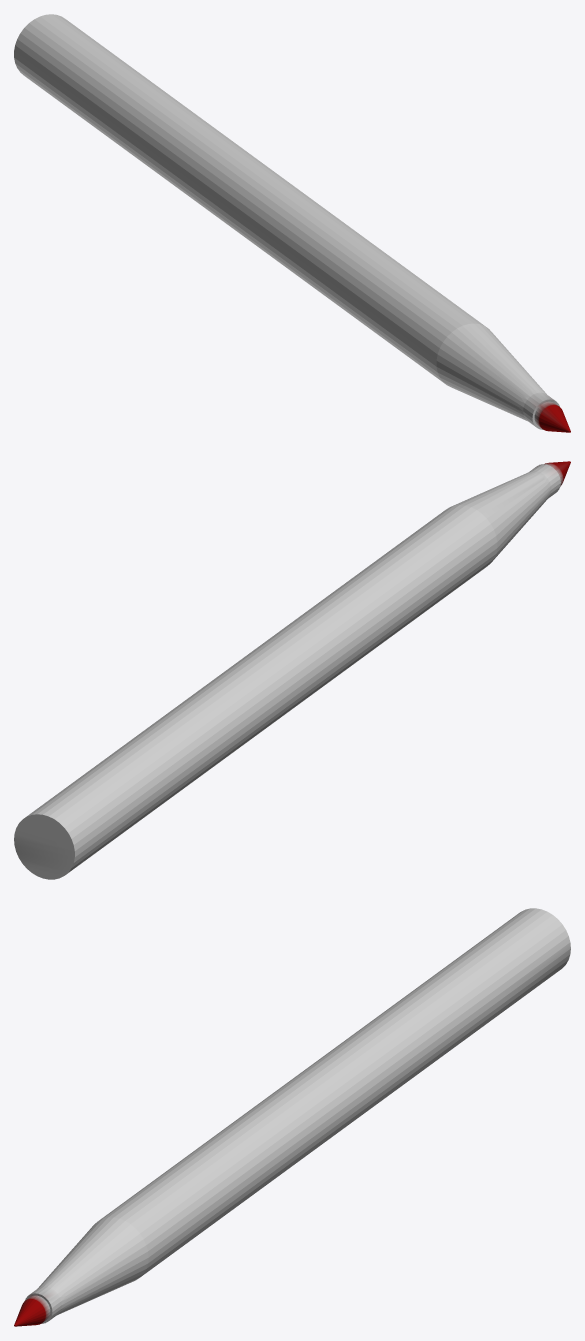
Rendered from marker.dae.
3 views of the same model, one above another, from view 1: azimuth 30°, elevation 25°; view 2: azimuth 150°, elevation 25°; view 3: azimuth 330°, elevation 25° (orthographic).
Parts seen in each view (by area): view 1: node; view 2: node; view 3: node.
Part boxes in pixels (bbox=[...]): node: bbox=[14, 14, 570, 432]; node: bbox=[14, 461, 570, 879]; node: bbox=[14, 908, 570, 1326].
Bounding box in the file's own units: 0.015 × 0.015 × 0.224.
